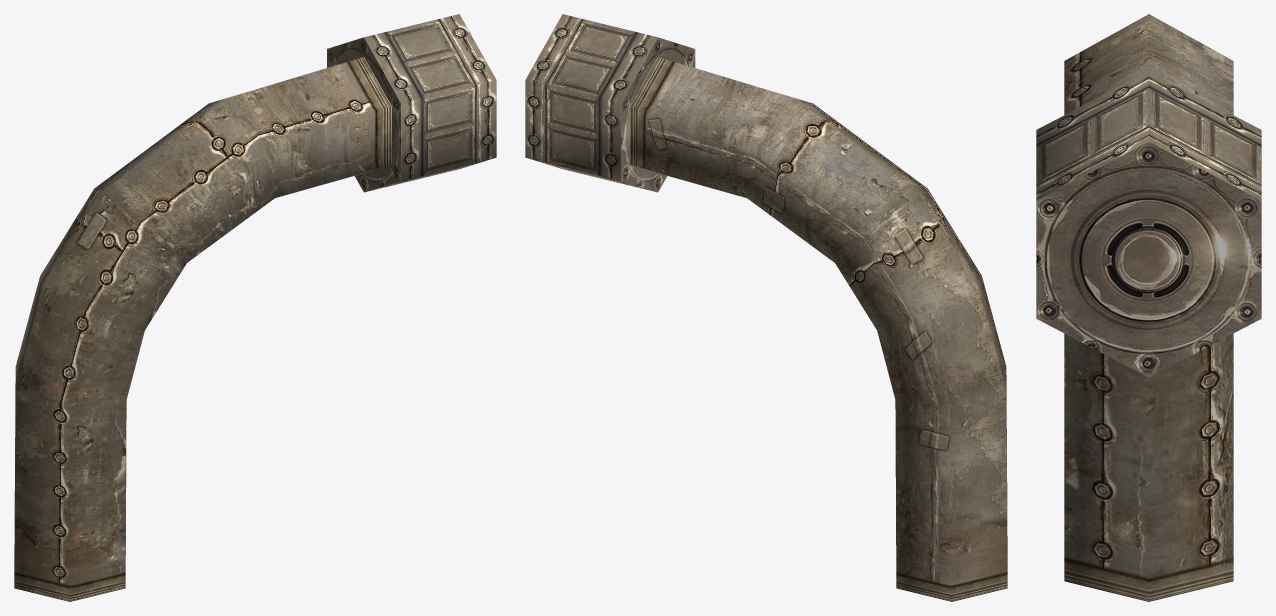
File: pipe_01_low.FBX
3 views of the same model, side by side, from view 1: azimuth 30°, elevation 25°; view 2: azimuth 150°, elevation 25°; view 3: azimuth 270°, elevation 25° (orthographic). The views are drawn at different scales.
Parts seen in each view (by area): view 1: S_HU_Deco_Pipes_SM_PipeSetB05; view 2: S_HU_Deco_Pipes_SM_PipeSetB05; view 3: S_HU_Deco_Pipes_SM_PipeSetB05.
Boxes of the visible parts, x1,y1,x2,y2 form: S_HU_Deco_Pipes_SM_PipeSetB05: (14,14,496,601); S_HU_Deco_Pipes_SM_PipeSetB05: (525,14,1007,601); S_HU_Deco_Pipes_SM_PipeSetB05: (1036,14,1261,601).
Size of the model in its own units: 600 by 600 by 173.
1 material, 1 textured.
